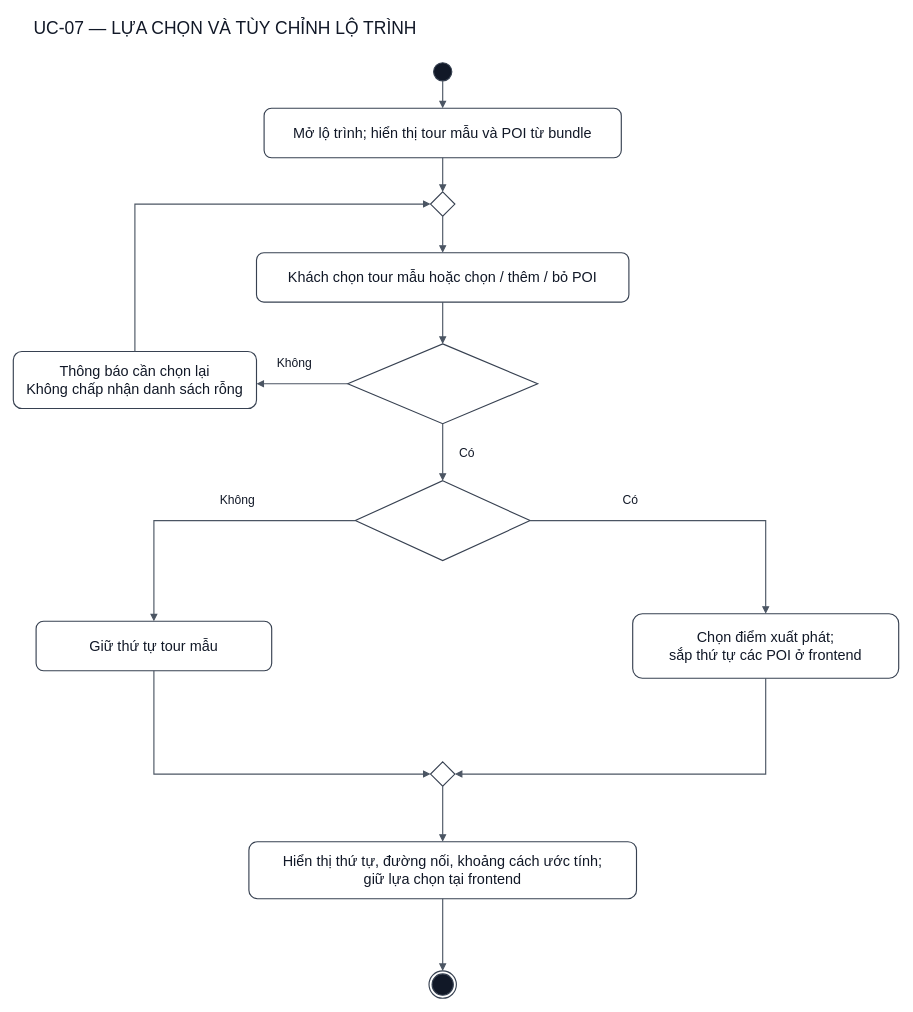
Some shapes in this 913 by 1012 pixel diagram are drawn without their labels. The centre of each missing label's shape, as x and y in pixels:
"Có danh sách POI hợp lệ?" belongs at [442,383].
"Là tour tùy chỉnh?" belongs at [442,520].
